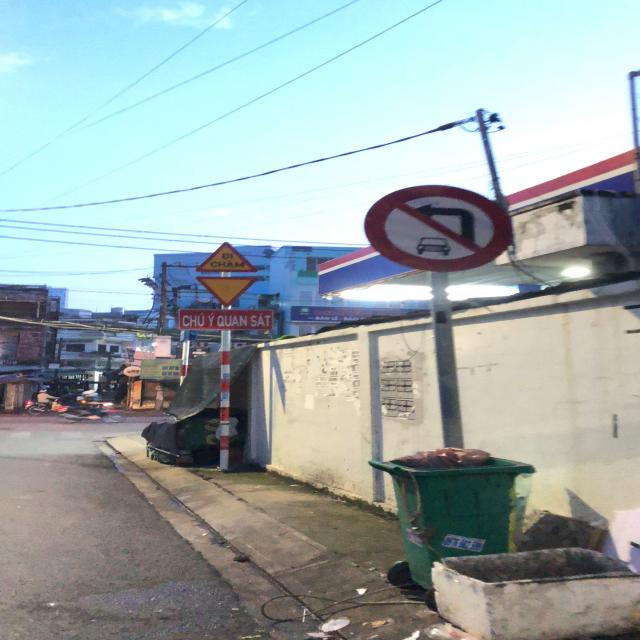Bien bao cam xe o to re trai: (366, 181, 525, 268)
Bien bao di cham: (194, 240, 262, 276)
Bien bao giao nhau voi duong uu tien: (193, 274, 263, 307)
